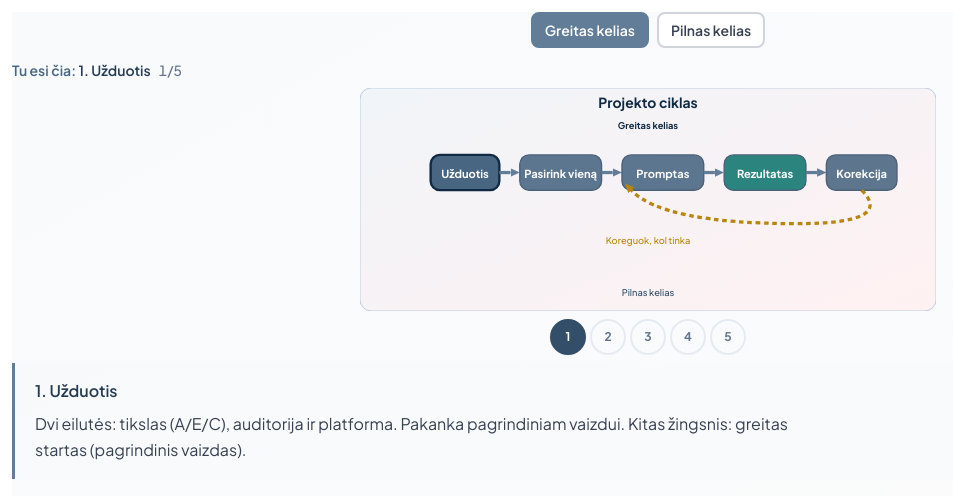
Test case: Diagram localization (AgentWorkflow, StrukturuotasProcesas, TurinioWorkflow) › M15PracticeLoopBlock (M15 slide 150.25) › switches to full path explanations and keeps five nav buttons
Click the button "Pilnas kelias" at (711, 30), box [657,12,765,48]
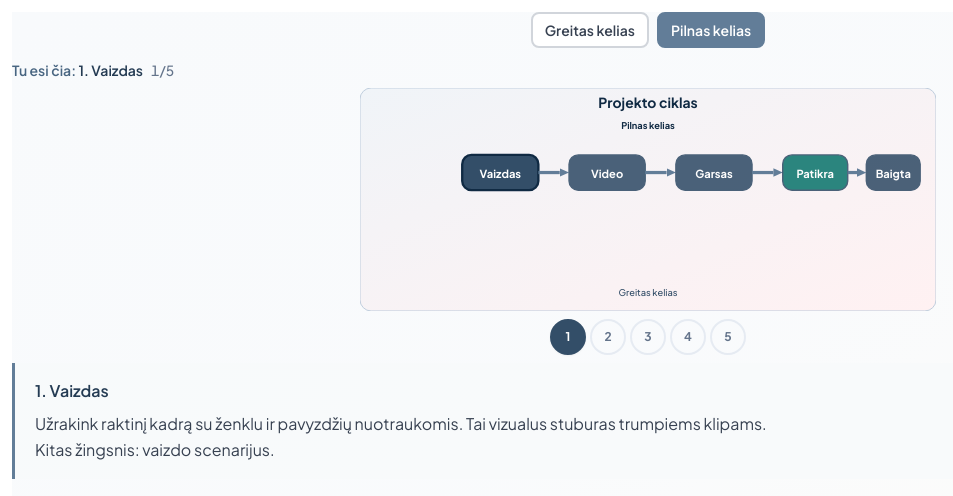
Check: the text "1. Vaizdas" is shown, box [78,61,143,79]
Check: the text "vaizdo scenarijus" is shown, box [35,413,767,460]
